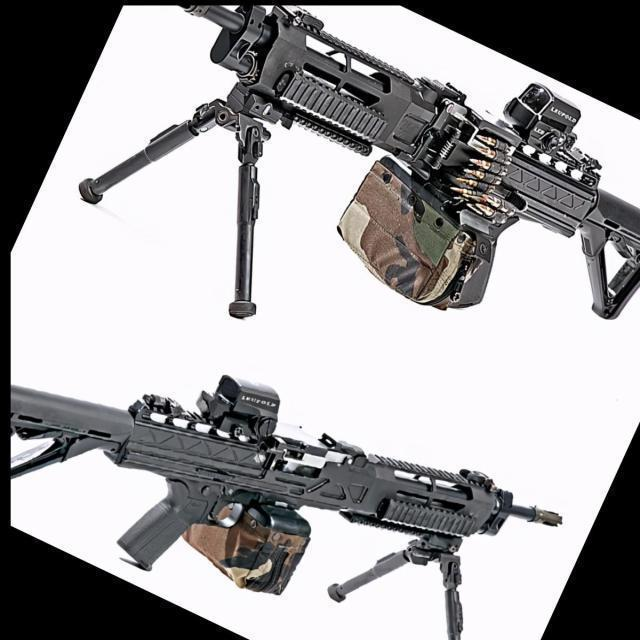Rifle: (78, 6, 640, 322), (14, 373, 567, 640)
